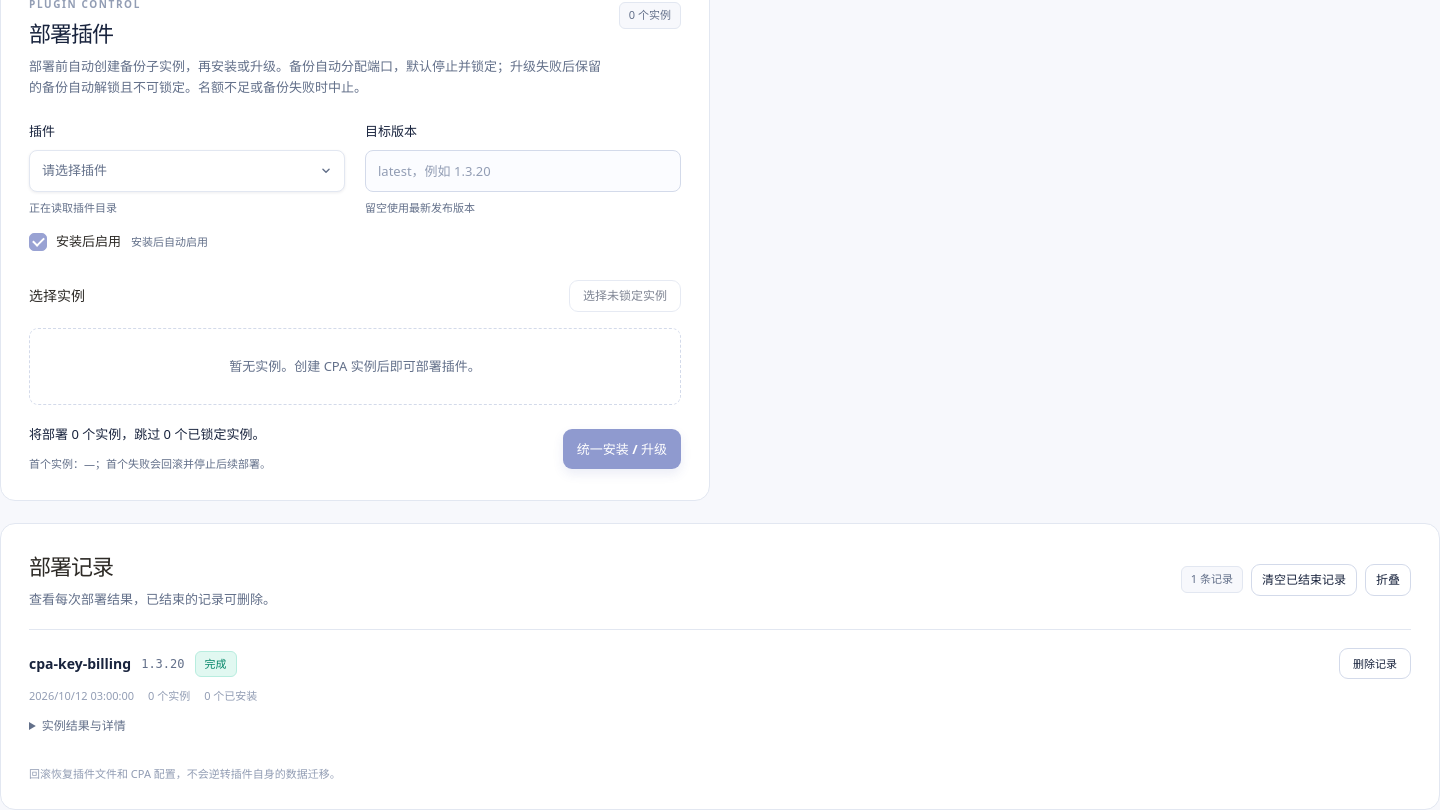
record deletion requires confirmation and refreshes history after success
The image size is (1440, 810).
(page scrolled)
What coordinates should you click on to do the following:
click the button with aria-label "删除部署记录 done"
I would click on:
 (1375, 664)
Its box is [1339,648,1411,680].
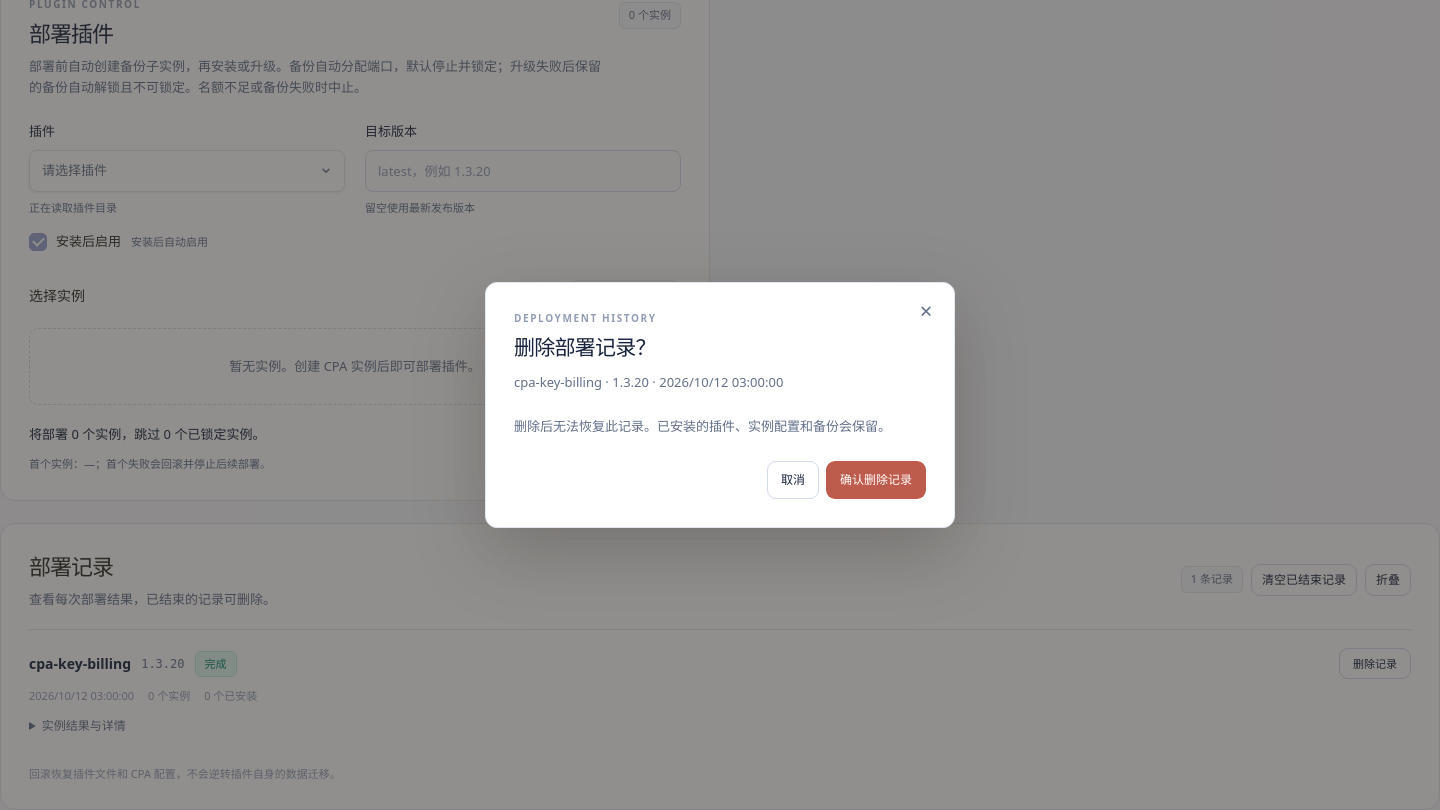
Now the dialog "删除部署记录？" is shown
What coordinates should you click on to do the following:
click the button "取消"
I would click on:
 (793, 480)
Its box is [767,461,819,499].
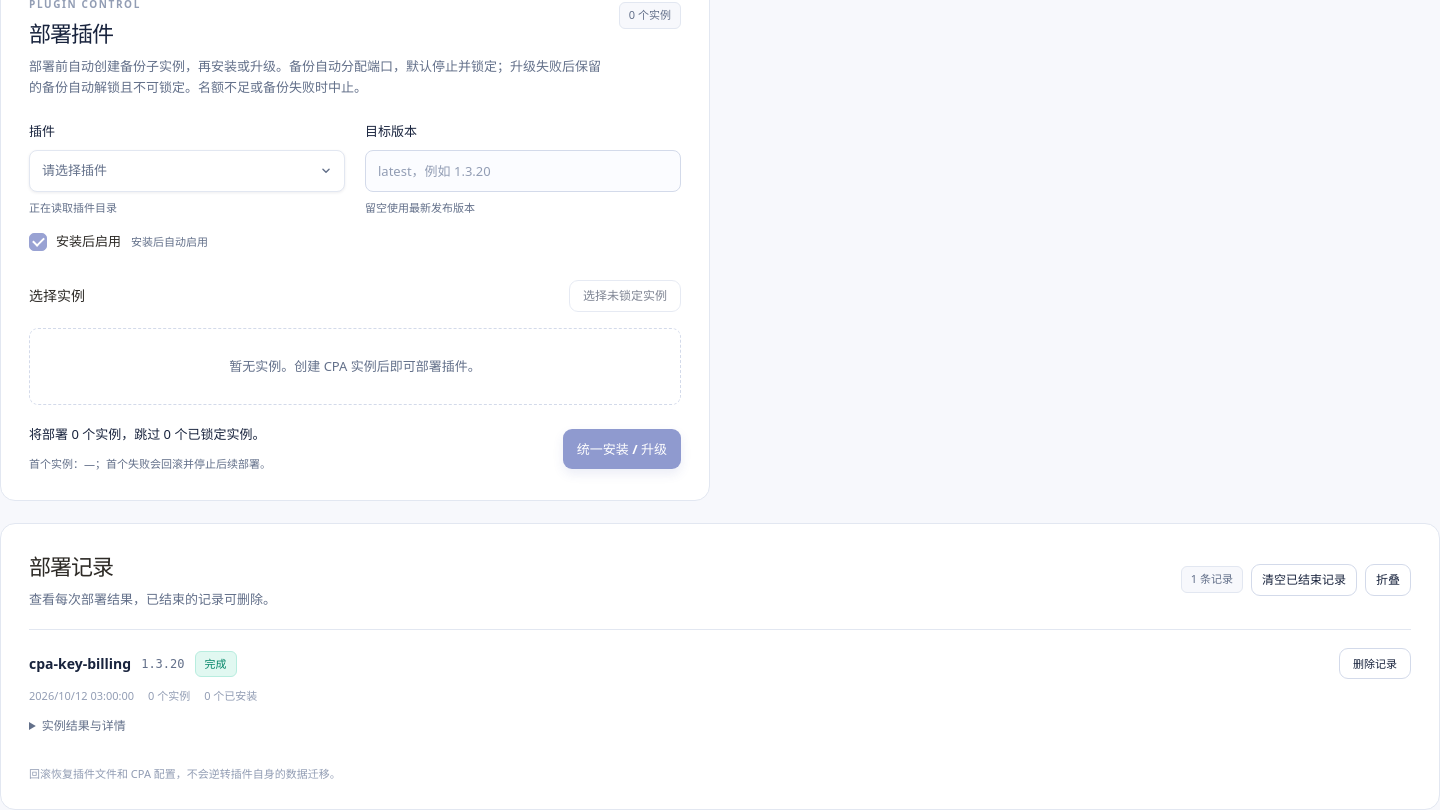
What coordinates should you click on to do the following:
click the button with aria-label "删除部署记录 done"
I would click on:
 (1375, 664)
Its box is [1339,648,1411,680].
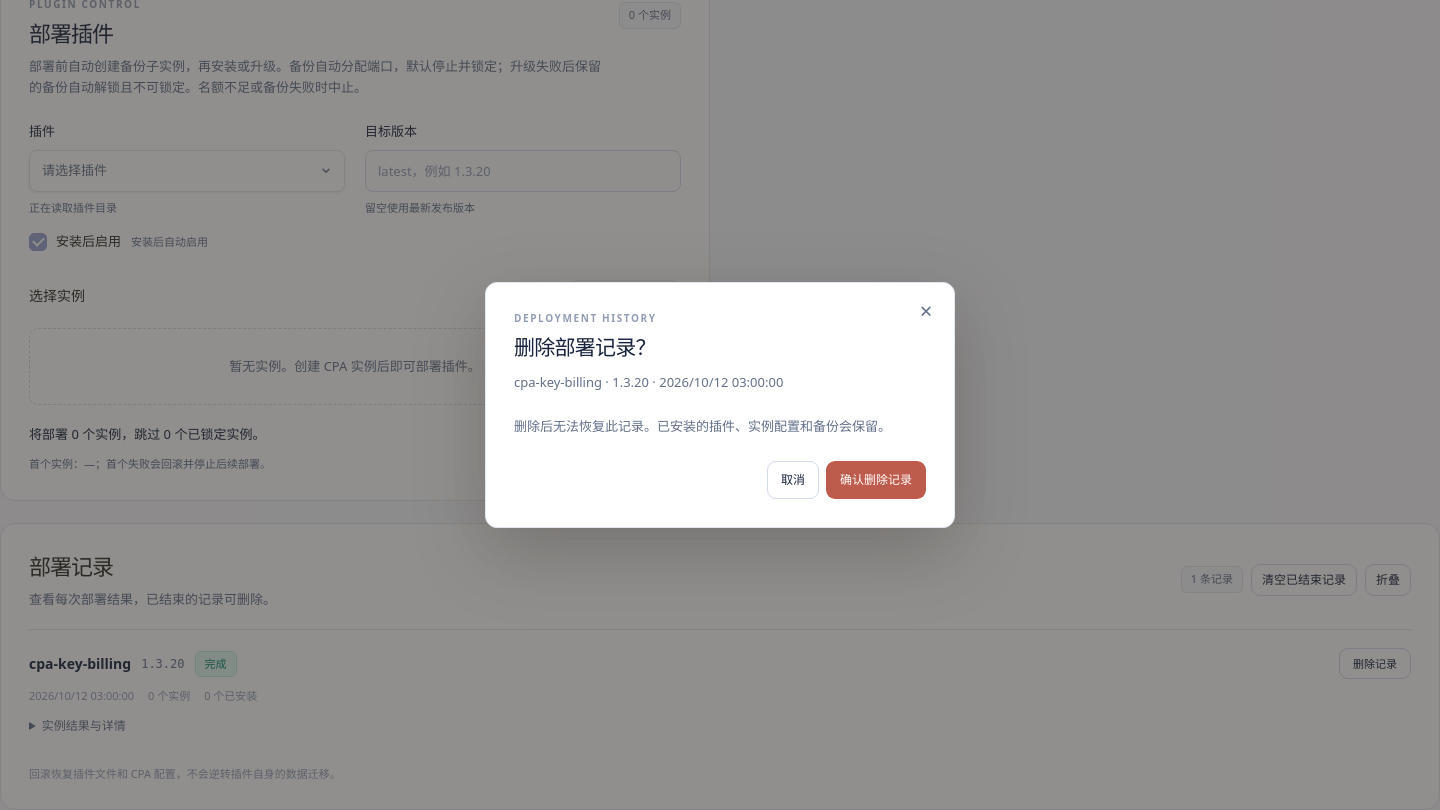
What coordinates should you click on to do the following:
click the button "确认删除记录"
I would click on:
 (876, 480)
Its box is [826,461,926,499].
(page scrolled)
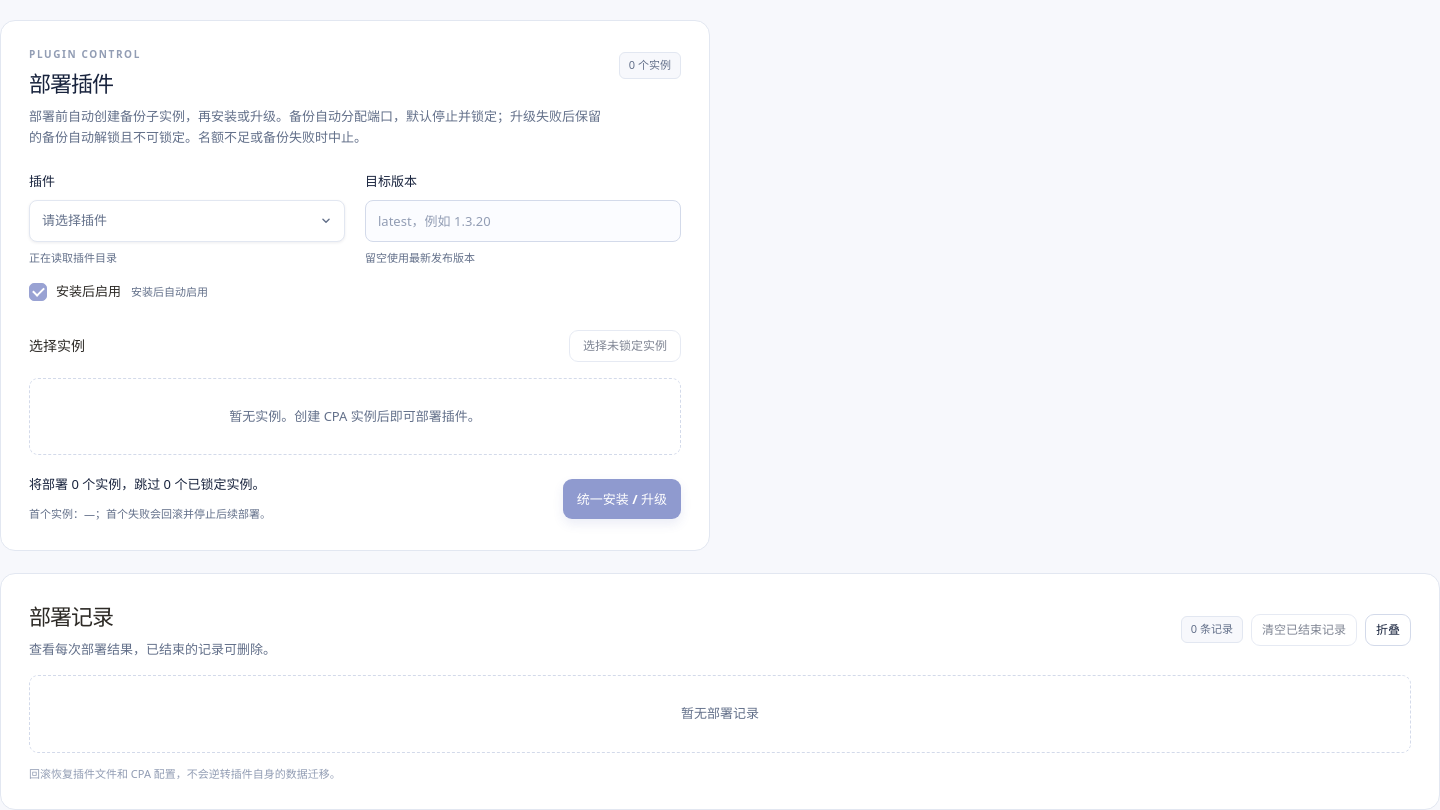
Now the text "暂无部署记录" is shown, box [29,676,1411,753]
